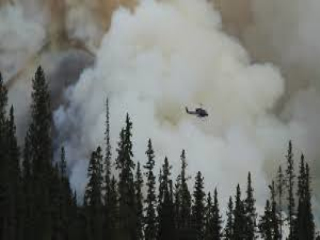smoke: (53, 10, 300, 209)
